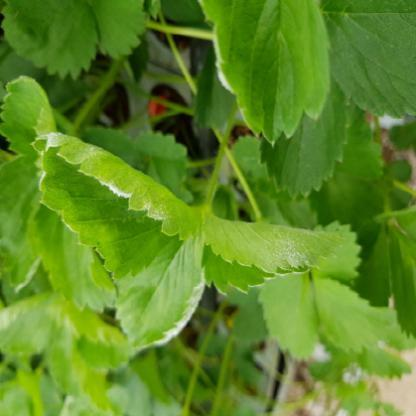Strawberry_Powdery_Mildew_Leaf: (30, 131, 204, 282), (197, 0, 332, 146), (113, 220, 207, 352), (202, 214, 343, 296)
